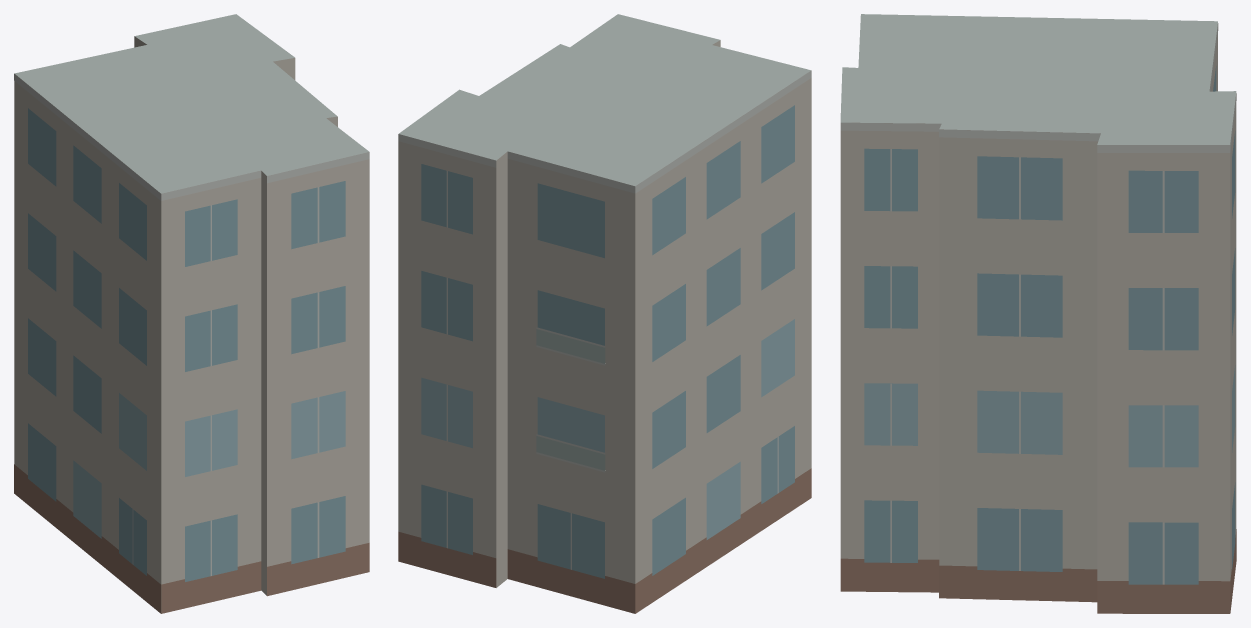
The model's file is survey-upis-32472965.glb.
The picture shows the model from 3 angles, left to right: view 1: azimuth 30°, elevation 25°; view 2: azimuth 150°, elevation 25°; view 3: azimuth 270°, elevation 25°; orthographic projection. The views are drawn at different scales.
Parts seen in each view (by area): view 1: survey-upis-32472965.tmp; view 2: survey-upis-32472965.tmp; view 3: survey-upis-32472965.tmp.
Part boxes in pixels (x1,y1,x2,y2): survey-upis-32472965.tmp: (14,14,369,613); survey-upis-32472965.tmp: (398,14,811,613); survey-upis-32472965.tmp: (840,14,1236,613).
Bounding box in the file's own units: 8.52 × 14.2 × 10.88.
